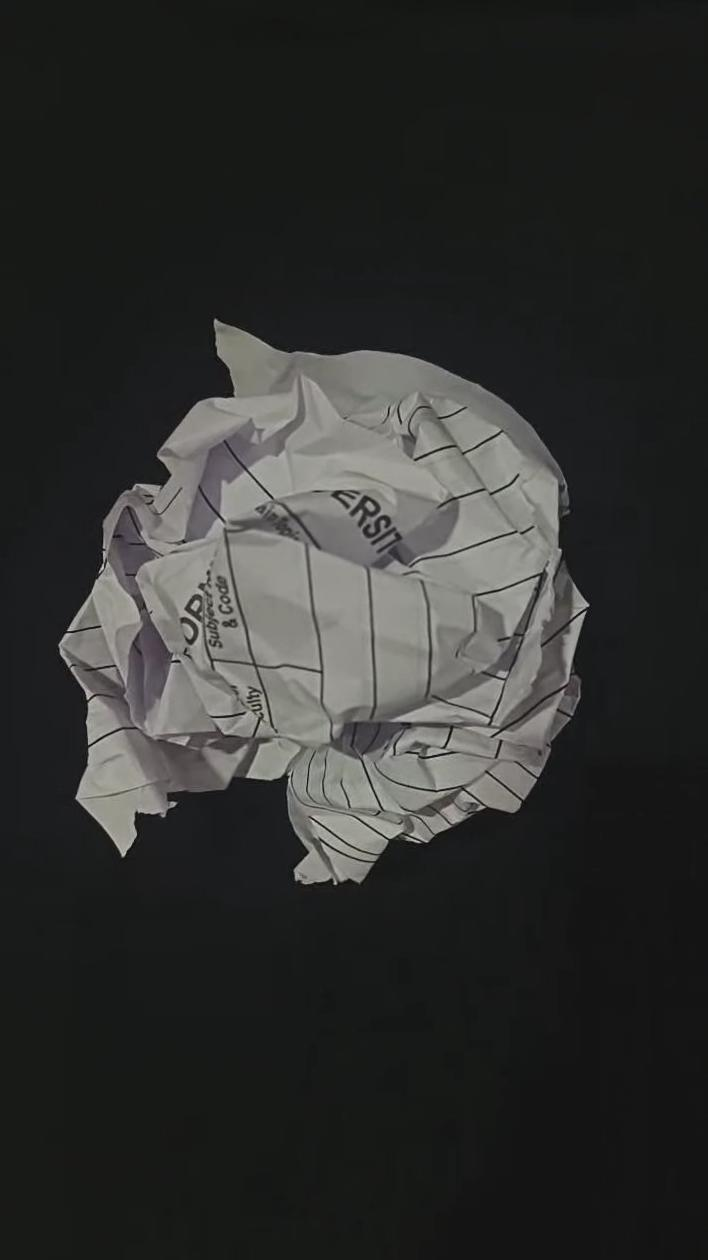PaperBall: (36, 273, 658, 887)
